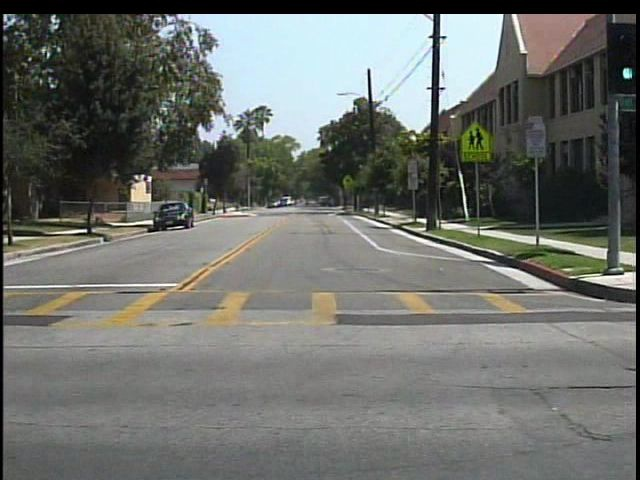person: (301, 194, 315, 212)
